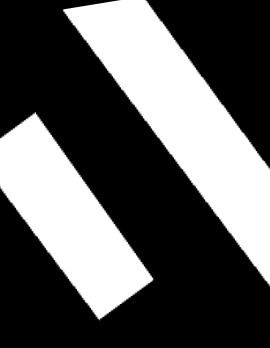parkingspot: (63, 0, 270, 286), (0, 112, 153, 320)
